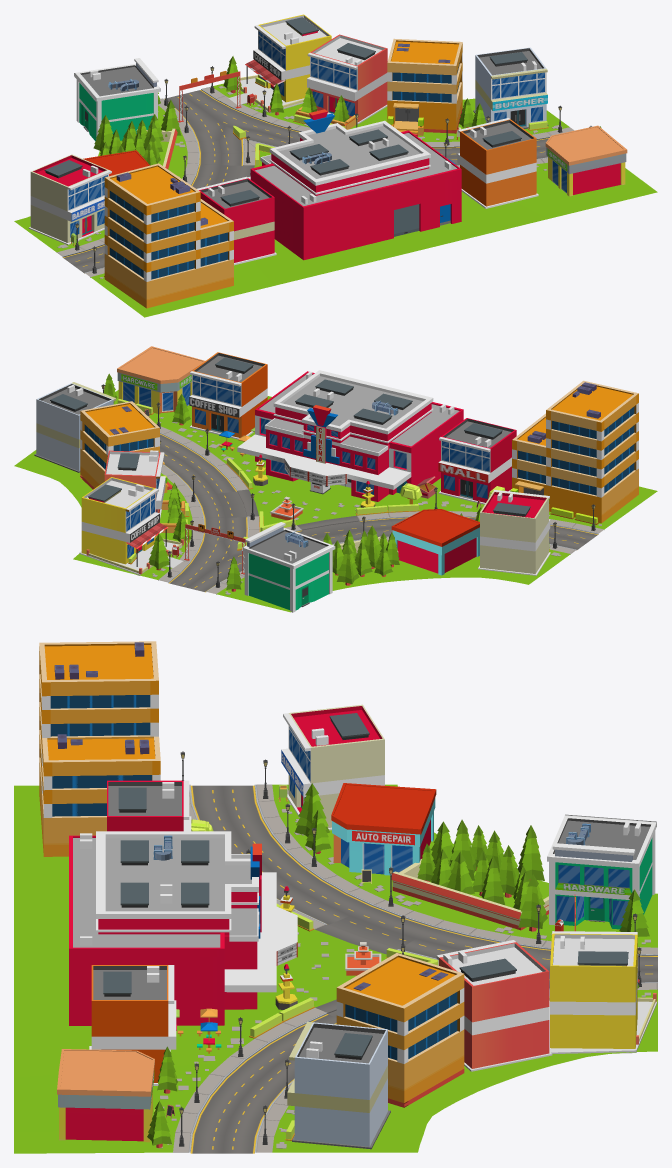
Rendered from TYmap01.fbx.
The picture shows the model from 3 angles, top to bottom: view 1: azimuth 30°, elevation 25°; view 2: azimuth 150°, elevation 25°; view 3: azimuth 270°, elevation 25°; orthographic projection. The views are drawn at different scales.
Visible parts, largest first — view 1: Ymap01; view 2: Ymap01; view 3: Ymap01.
Boxes of the visible parts, x1=… form: Ymap01: x1=14, y1=14, x2=657, y2=317; Ymap01: x1=14, y1=346, x2=657, y2=612; Ymap01: x1=14, y1=641, x2=657, y2=1153.
Size of the model in its own units: 20372 by 4050 by 15068.
Materials: 1 (1 with a texture image).
